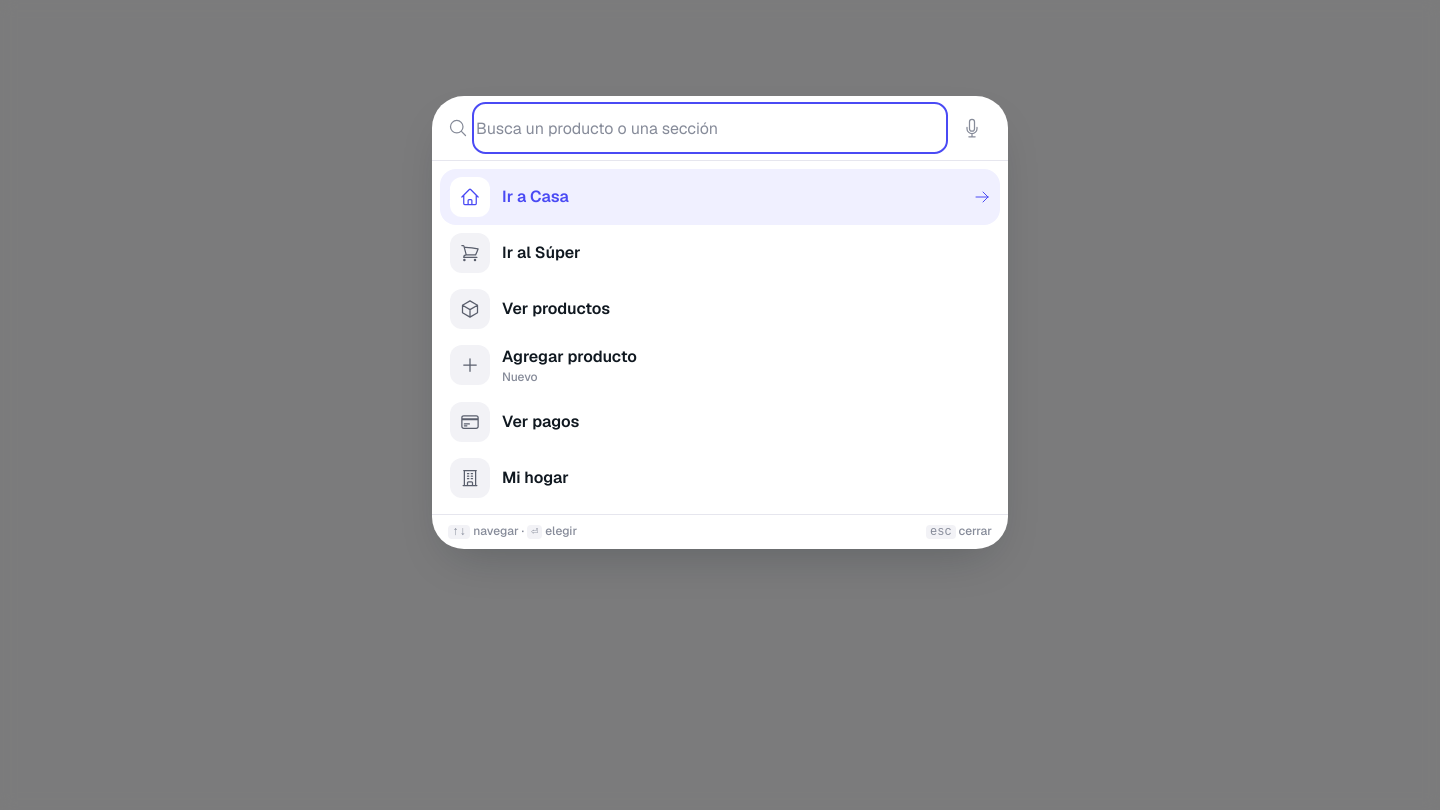
Test: CommandPalette — encuentra toda la despensa › busca sin acentos, como el resto de la app
Type "limon" into the field with placeholder "Busca un producto o una sección".
click(710, 128); type("limon")  # box left=476, top=106, right=944, bottom=150
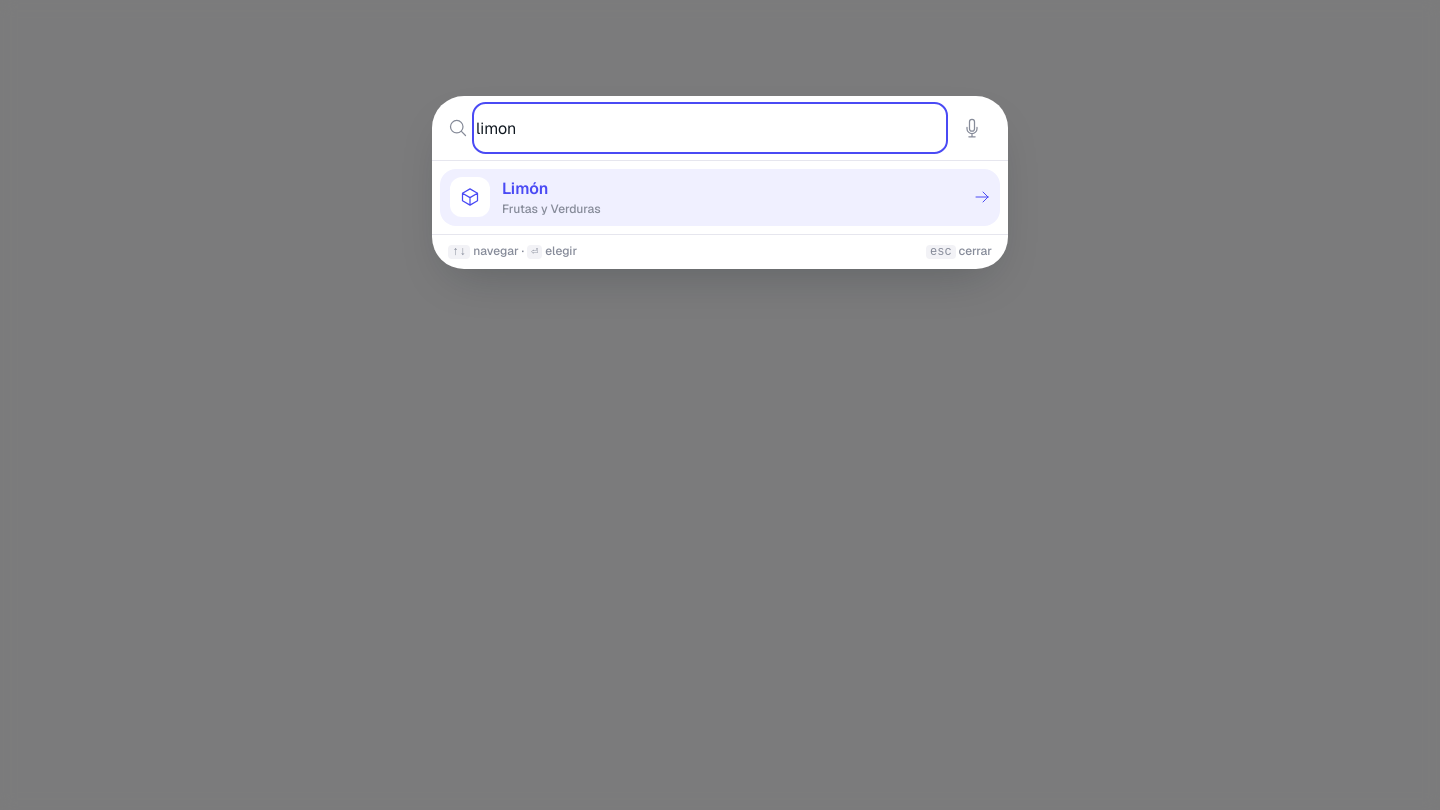
Expected: the text "Limón" is shown, left=502, top=178, right=548, bottom=199
